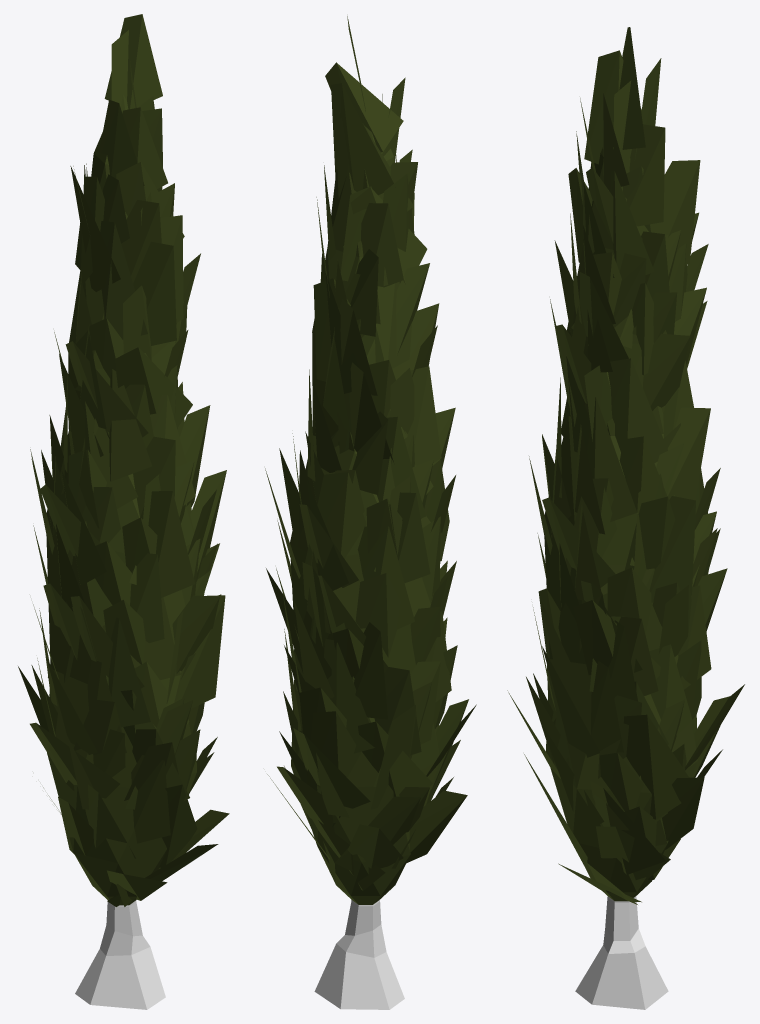
The model's file is tree-cypress-young-a.gltf.
The picture shows the model from 3 angles, left to right: view 1: azimuth 30°, elevation 25°; view 2: azimuth 150°, elevation 25°; view 3: azimuth 270°, elevation 25°; orthographic projection.
Parts seen in each view (by area): view 1: tree-cypress-young-a; view 2: tree-cypress-young-a; view 3: tree-cypress-young-a.
Boxes of the visible parts, bbox=[...] form: tree-cypress-young-a: bbox=[18, 14, 229, 1009]; tree-cypress-young-a: bbox=[265, 16, 476, 1009]; tree-cypress-young-a: bbox=[507, 27, 744, 1009].
Bounding box in the file's own units: 0.0096 × 0.0473 × 0.0104.
